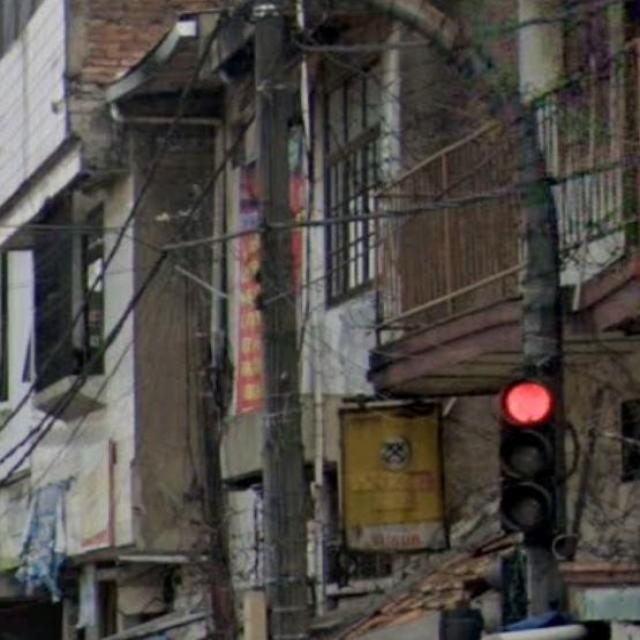red_light: (497, 376, 568, 536)
